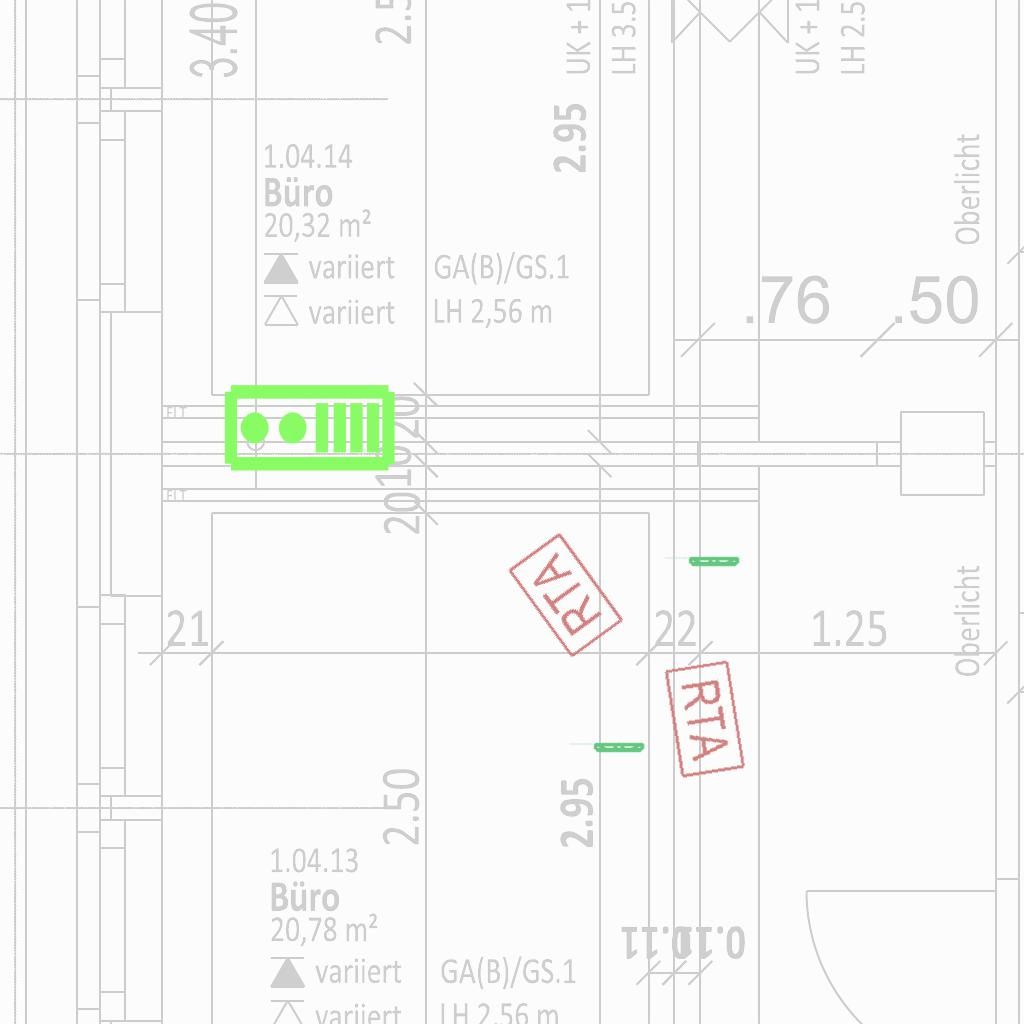Gegensprechanlage_mit_Video: (221, 382, 397, 477)
Ruf-und_Abstelltaster: (505, 529, 628, 663), (661, 656, 748, 780)
Sicherheitsleuchte_Wandeinbau: (662, 556, 741, 568), (567, 742, 646, 754)
